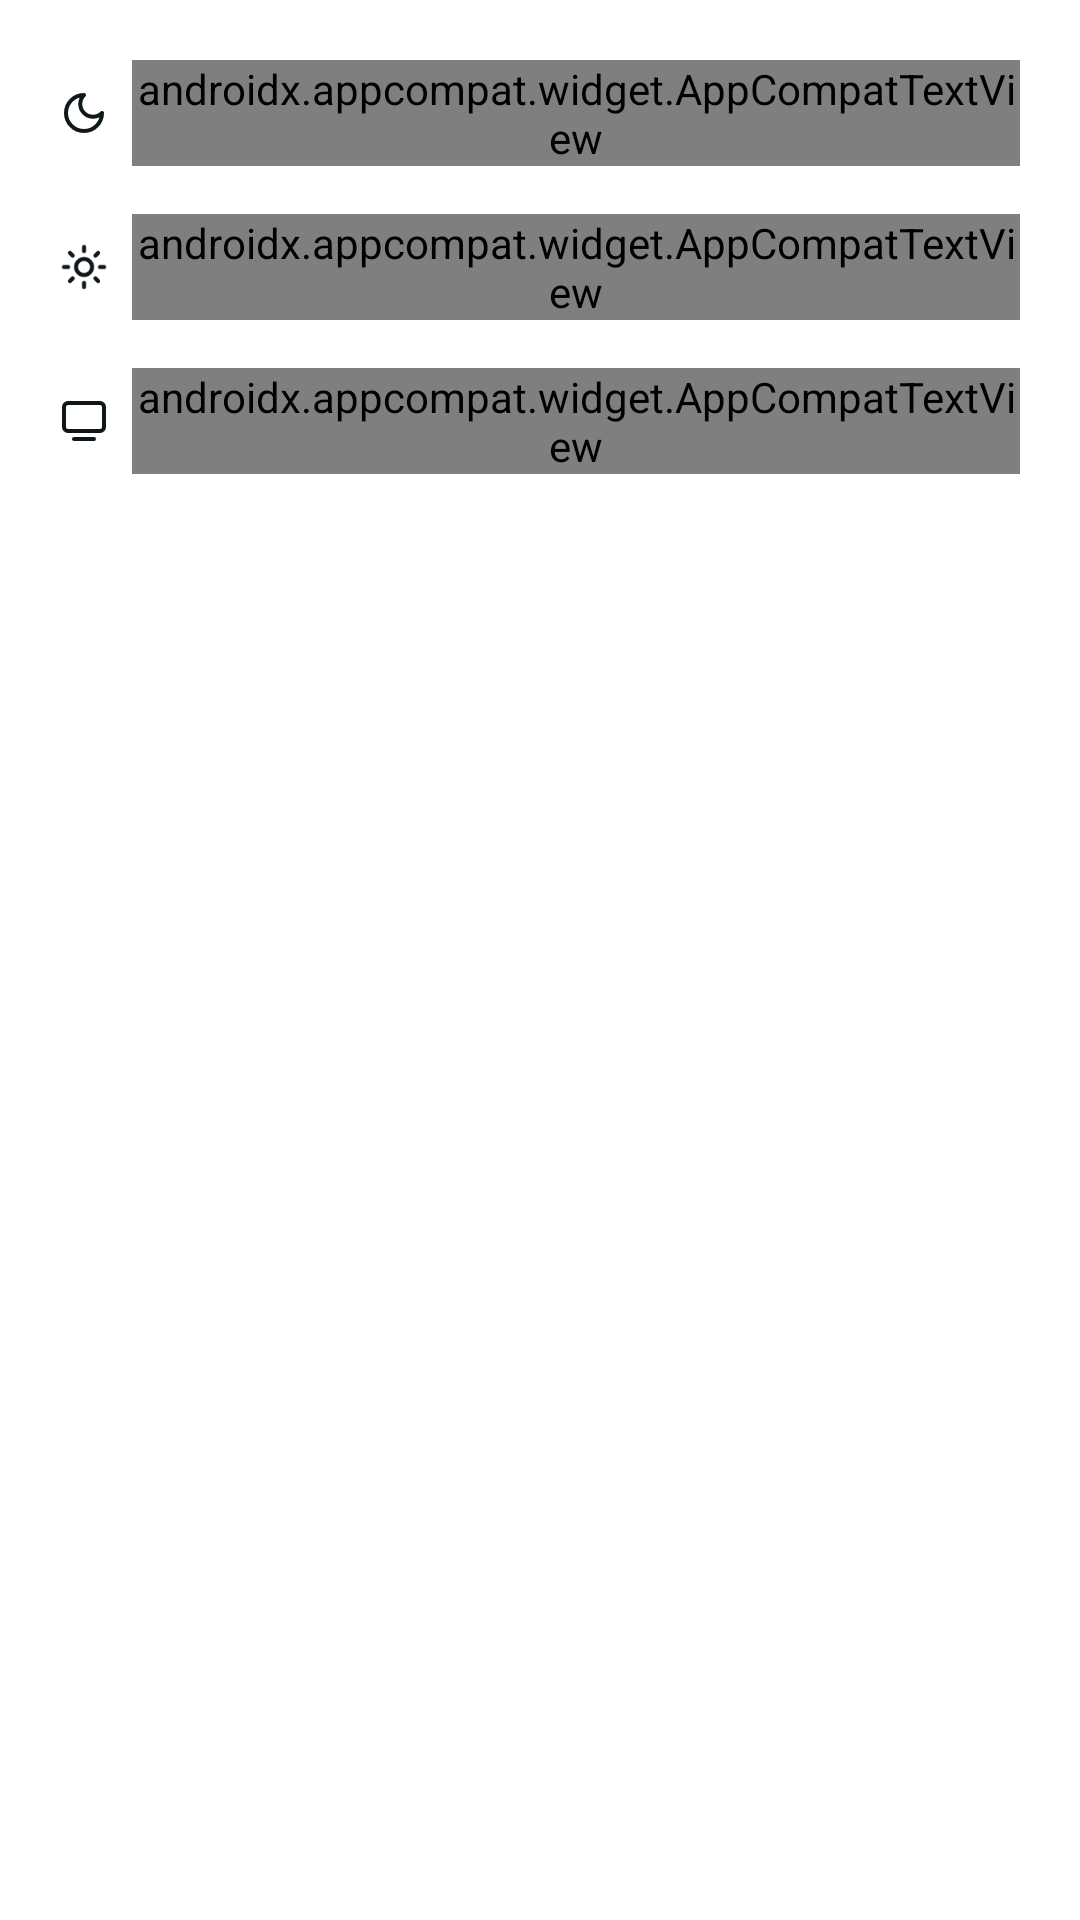

Locate icon controls on the screen. Image size 1080w x 1920h, boxes as (x1, y1, x2, y2).
moon: (64, 93, 104, 133)
sun: (61, 244, 107, 290)
tv minimal: (62, 401, 106, 441)
